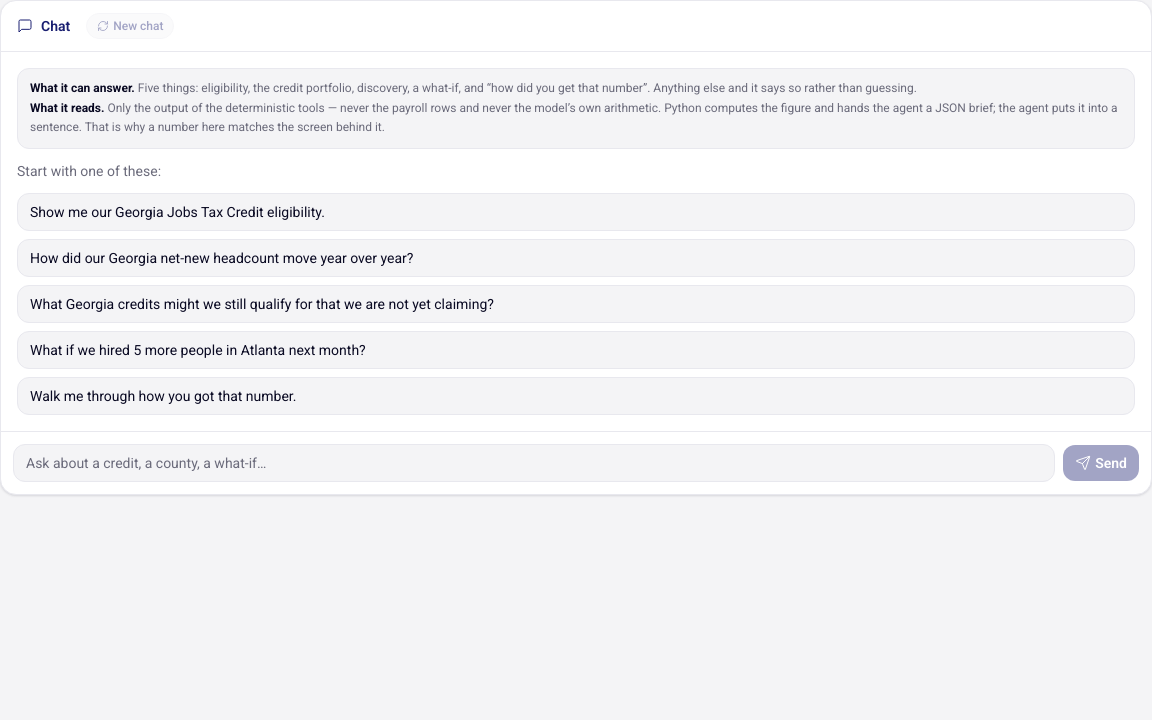
Test: when the client is unclear, the chat asks — it never picks › offers one button per client, with the year each would answer for
Type "what is their trend?" into the field.
click(534, 462); type("what is their trend?")  # box [13, 444, 1055, 482]
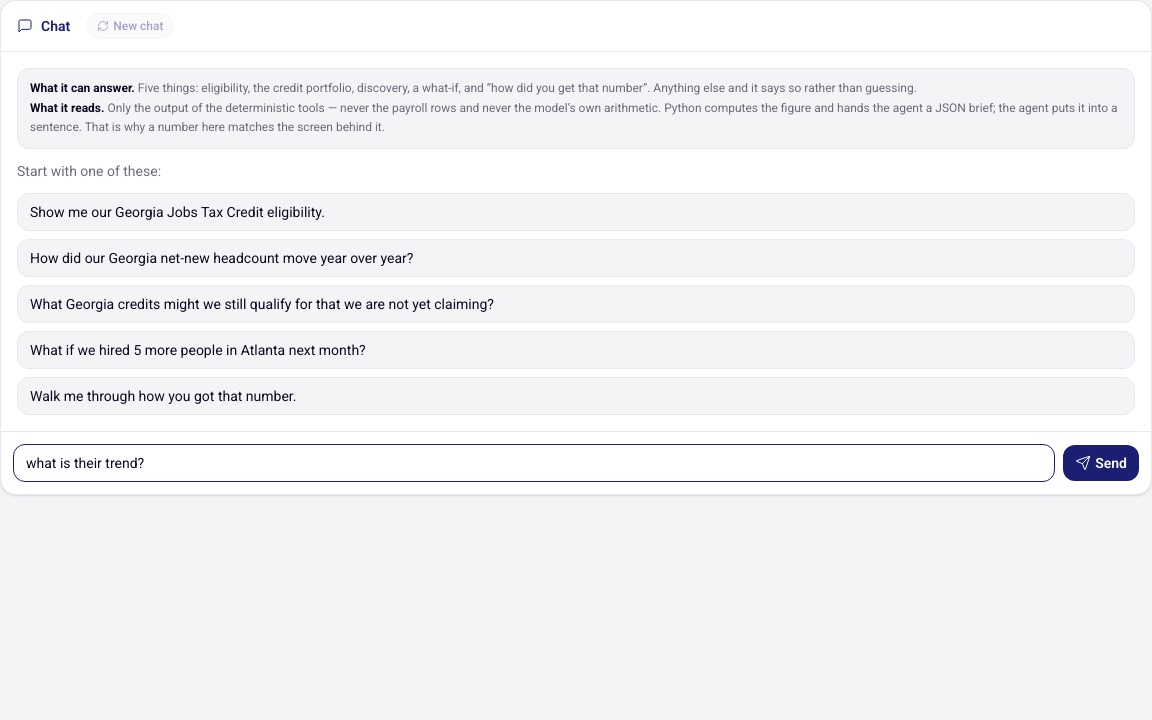
Click the button "Send".
click(1101, 462)  # box [1063, 444, 1139, 480]
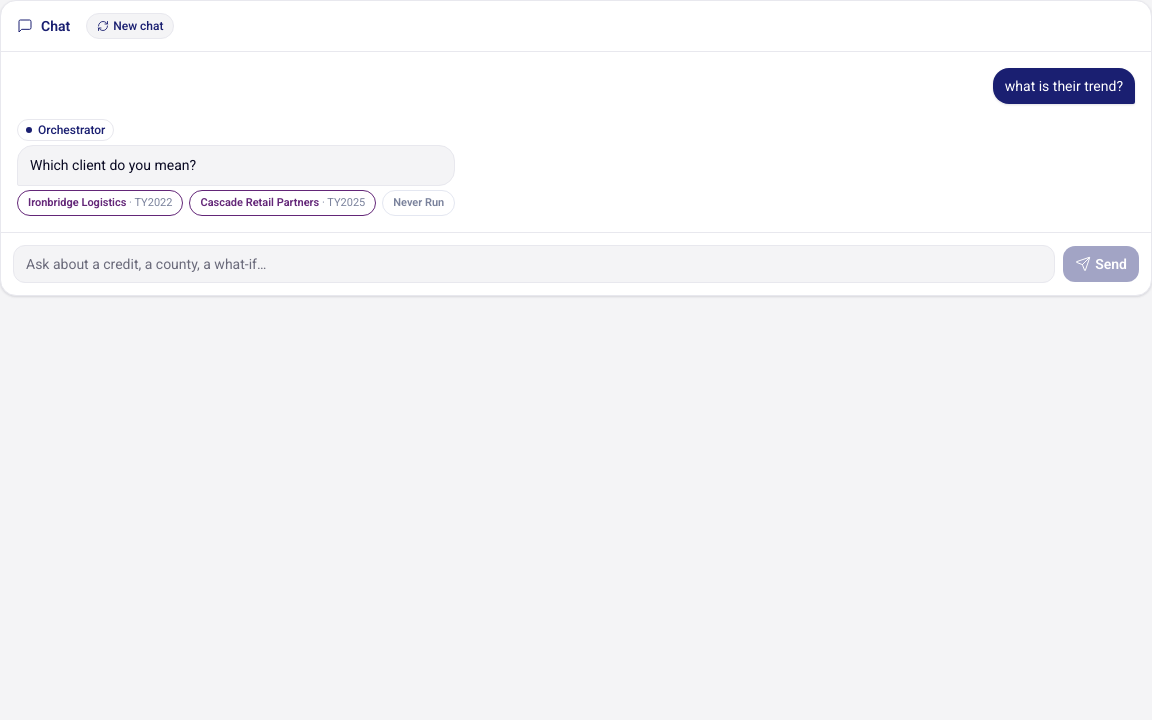
expect the element named "Which client?" shows "Ironbridge Logistics · TY2022": met, box [17, 190, 455, 216]
expect the element named "Which client?" shows "Cascade Retail Partners · TY2025": met, box [17, 190, 455, 216]
expect the button "Never Run" is disabled: met, box [382, 190, 455, 216]
